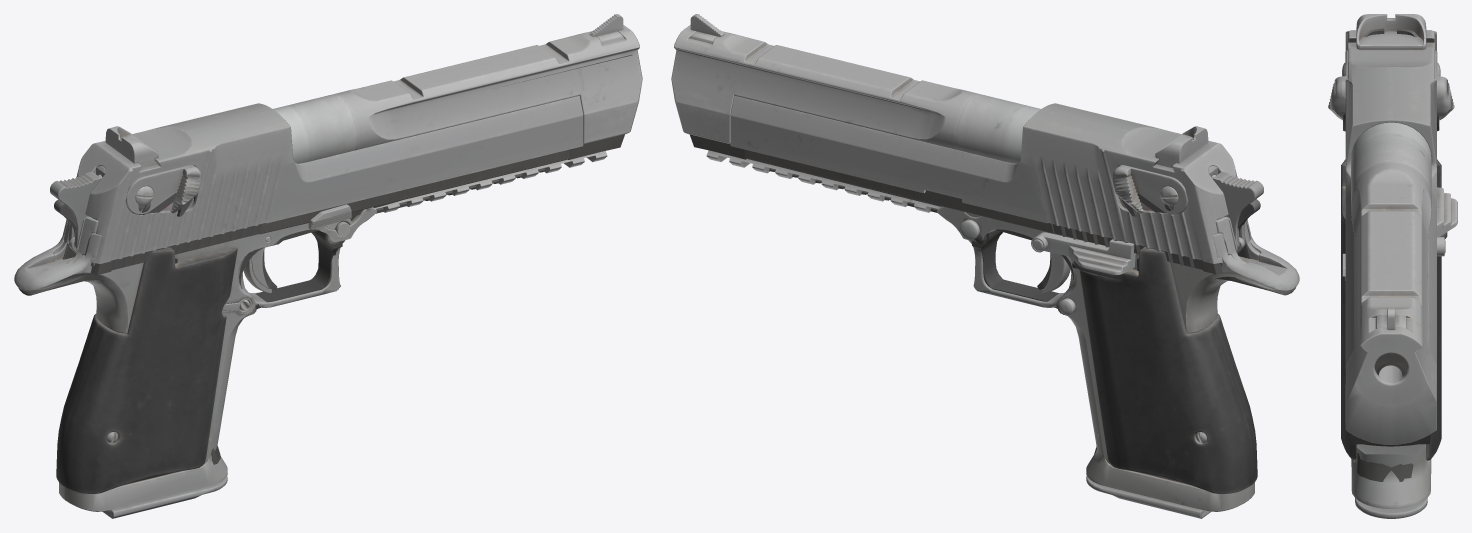
The model's file is weapon_deagle.glb.
The picture shows the model from 3 angles, left to right: view 1: azimuth 30°, elevation 25°; view 2: azimuth 150°, elevation 25°; view 3: azimuth 270°, elevation 25°; orthographic projection. The views are drawn at different scales.
Visible parts, largest first — view 1: weapons/models/deagle/weapon_pist_deagle.vmdl_c.body_hd, weapons/models/deagle/weapon_pist_deagle.vmdl_c.body_legacy; view 2: weapons/models/deagle/weapon_pist_deagle.vmdl_c.body_hd, weapons/models/deagle/weapon_pist_deagle.vmdl_c.body_legacy; view 3: weapons/models/deagle/weapon_pist_deagle.vmdl_c.body_hd, weapons/models/deagle/weapon_pist_deagle.vmdl_c.body_legacy.
Part boxes in pixels (bbox=[...]): weapons/models/deagle/weapon_pist_deagle.vmdl_c.body_hd: bbox=[14, 14, 642, 518]; weapons/models/deagle/weapon_pist_deagle.vmdl_c.body_legacy: bbox=[18, 36, 632, 464]; weapons/models/deagle/weapon_pist_deagle.vmdl_c.body_hd: bbox=[671, 14, 1299, 518]; weapons/models/deagle/weapon_pist_deagle.vmdl_c.body_legacy: bbox=[689, 134, 1295, 454]; weapons/models/deagle/weapon_pist_deagle.vmdl_c.body_hd: bbox=[1328, 14, 1457, 518]; weapons/models/deagle/weapon_pist_deagle.vmdl_c.body_legacy: bbox=[1343, 28, 1439, 481].
Bounding box in the file's own units: 11.55 × 6.66 × 1.75.
2 materials, 2 textured.
